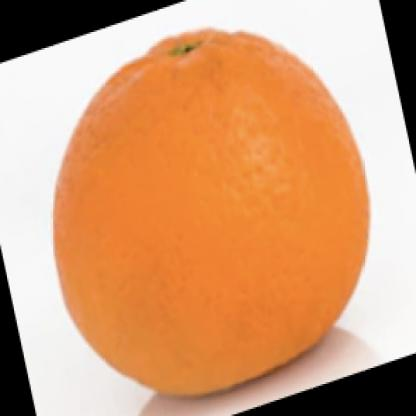orange: (46, 17, 375, 403)
